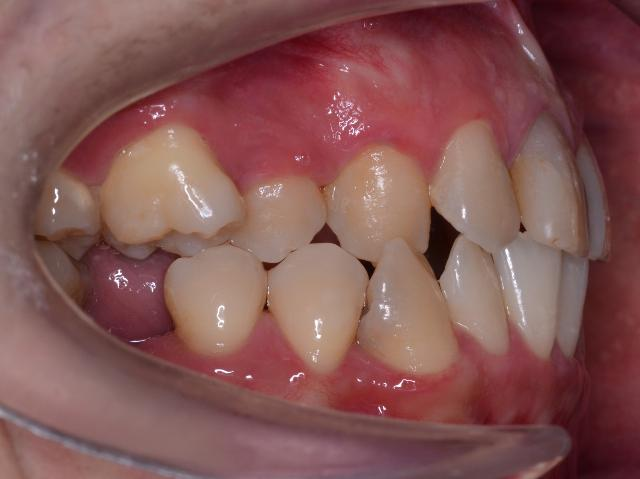canine class II full class: (272, 115, 524, 383)
